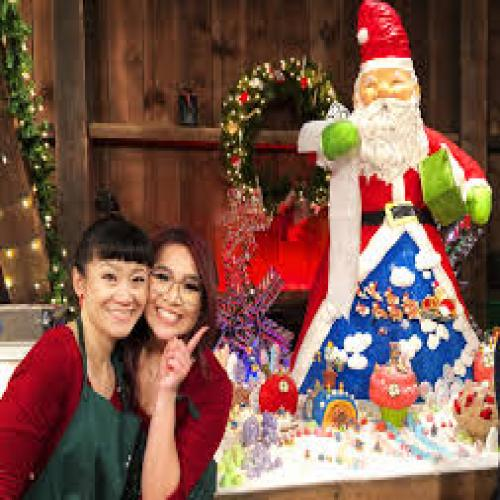Santa: (289, 0, 492, 405)
